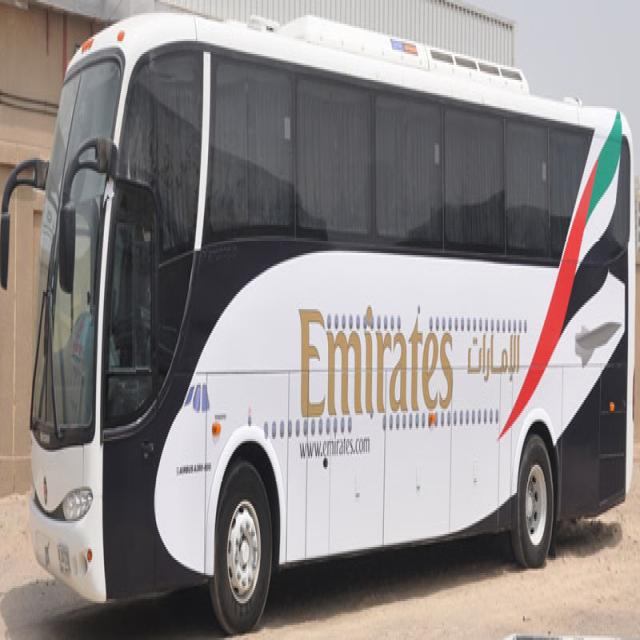bus: (5, 11, 628, 616)
